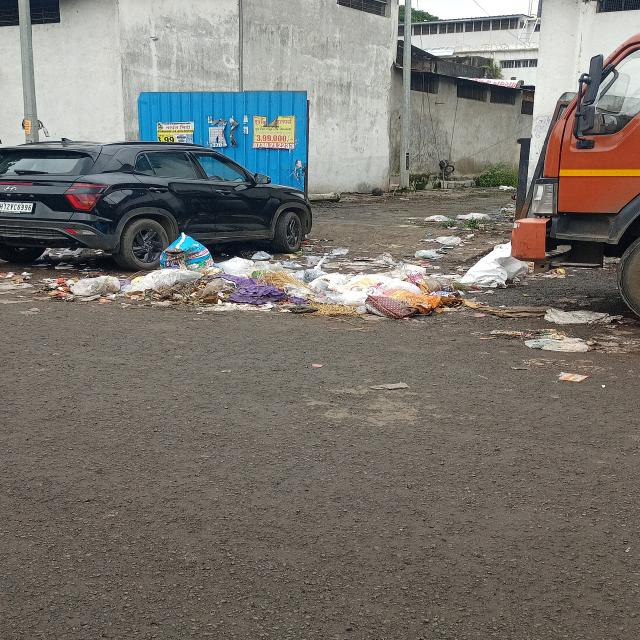garbage: (7, 248, 528, 315)
